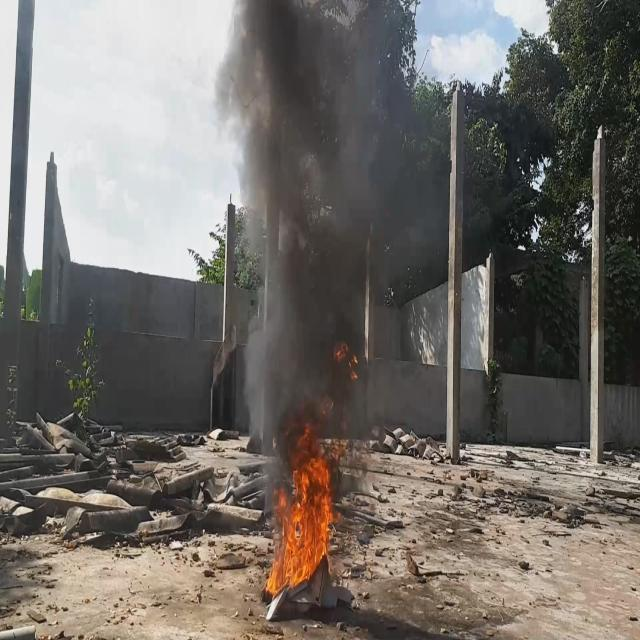Fire: (264, 411, 338, 601)
Smoke: (209, 0, 389, 476)
